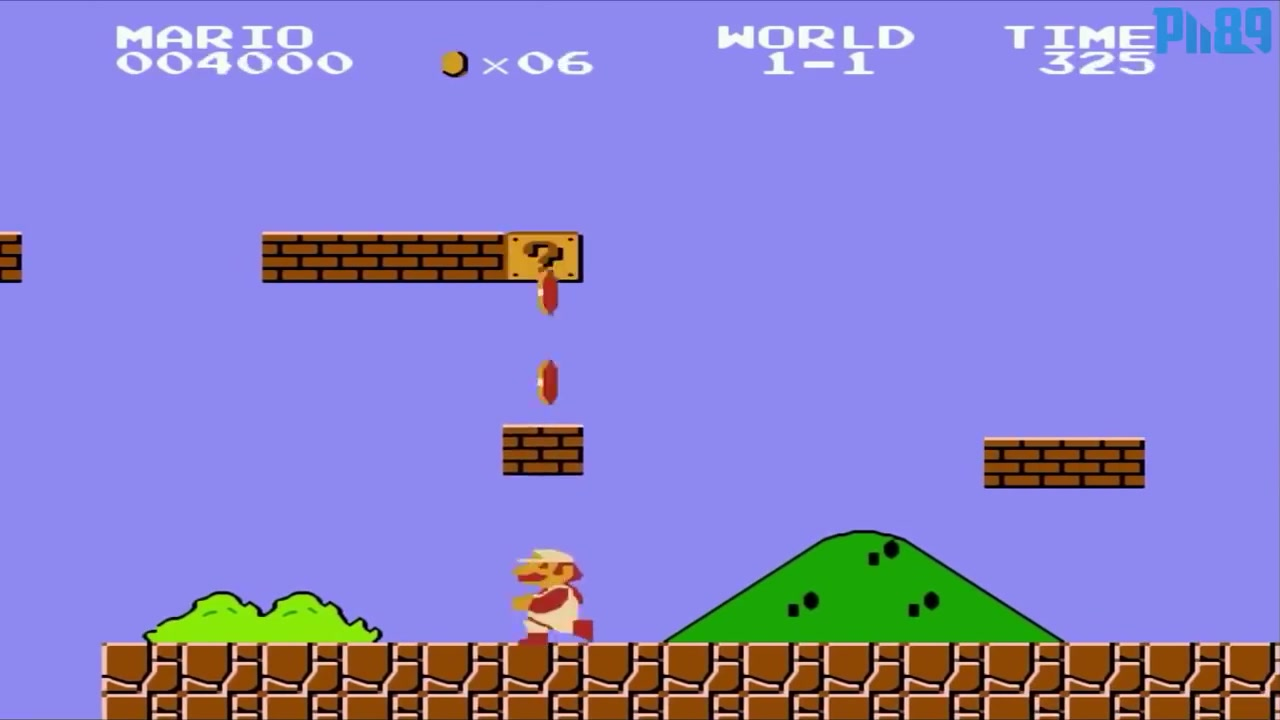mario: (508, 544, 599, 650)
